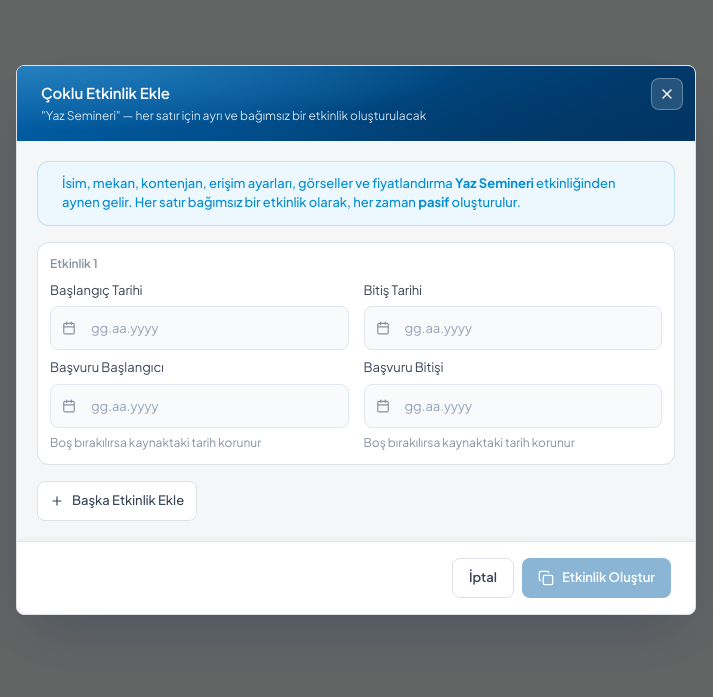
EventBulkCopyModal › adding a row shows a second independent set of date fields
The image size is (713, 697).
Click the button "Başka Etkinlik Ekle": [117, 501] box 37,481 -> 197,521
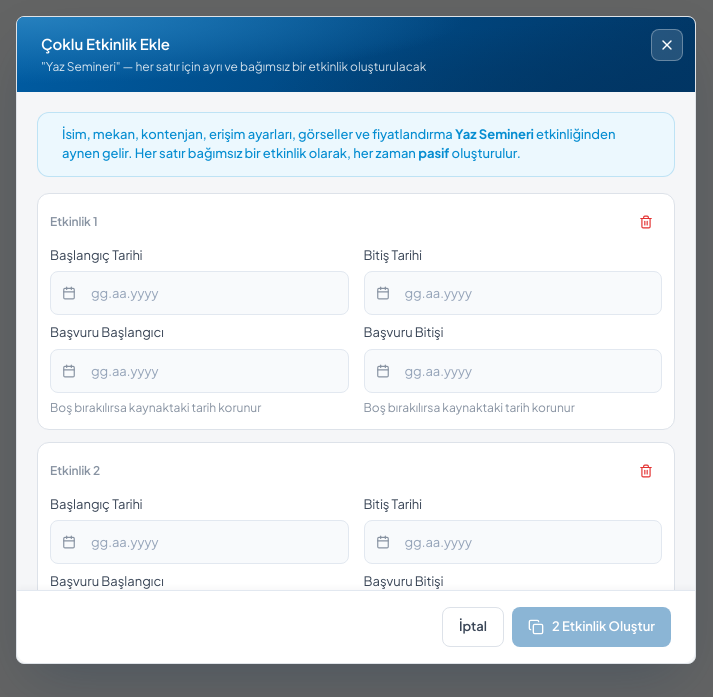
Expected: the text "Etkinlik 1" is shown, 50,212 -> 98,230
Expected: the text "Etkinlik 2" is shown, 50,462 -> 100,480
Expected: the number of buttons named "Bu satırı kaldır" is 2, 630,206 -> 662,238; 630,454 -> 662,486
